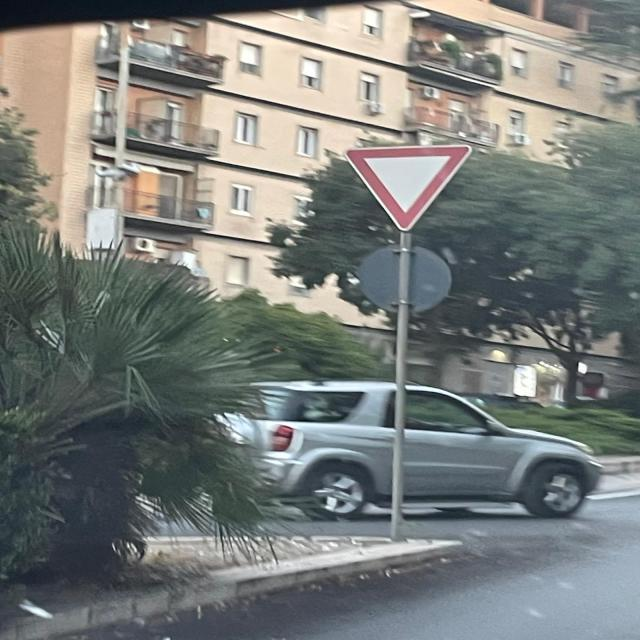prio_give_way: (345, 143, 475, 231)
